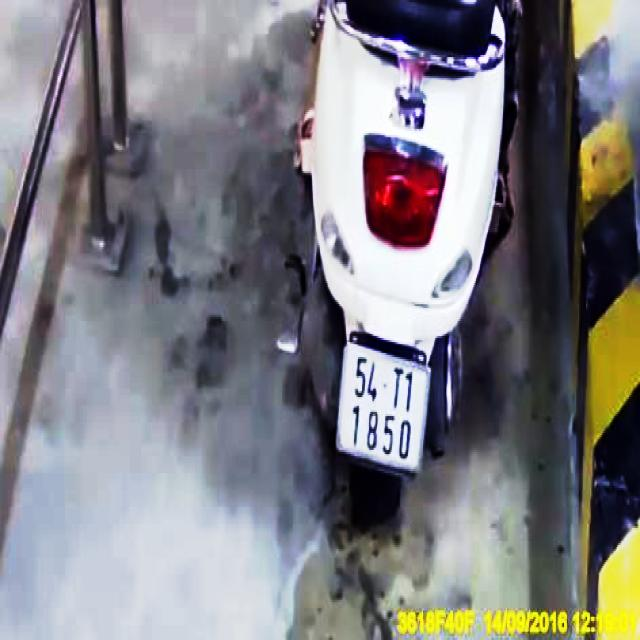license_plate: (339, 348, 430, 472)
